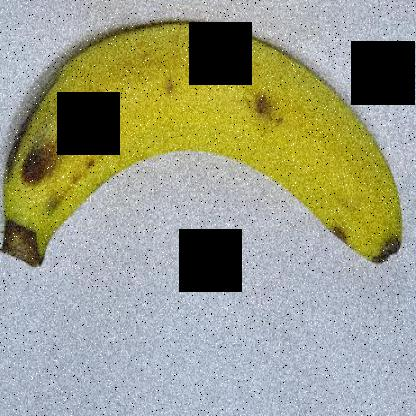freshripe: (1, 0, 413, 284)
